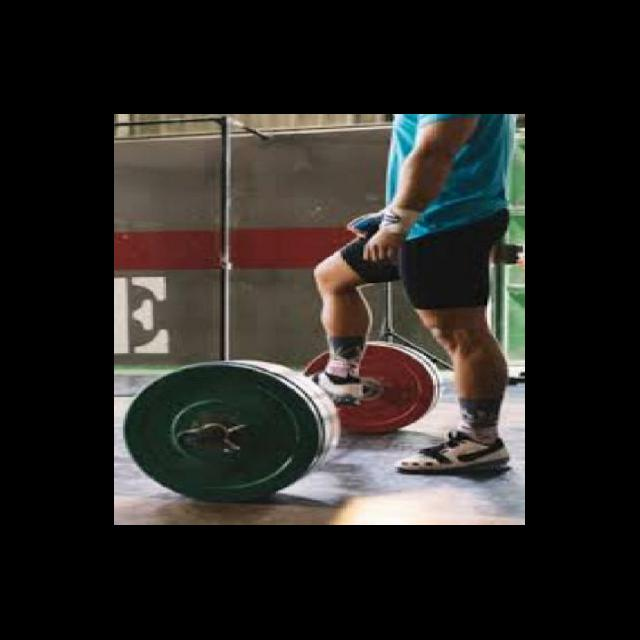barbell: (123, 358, 323, 509)
